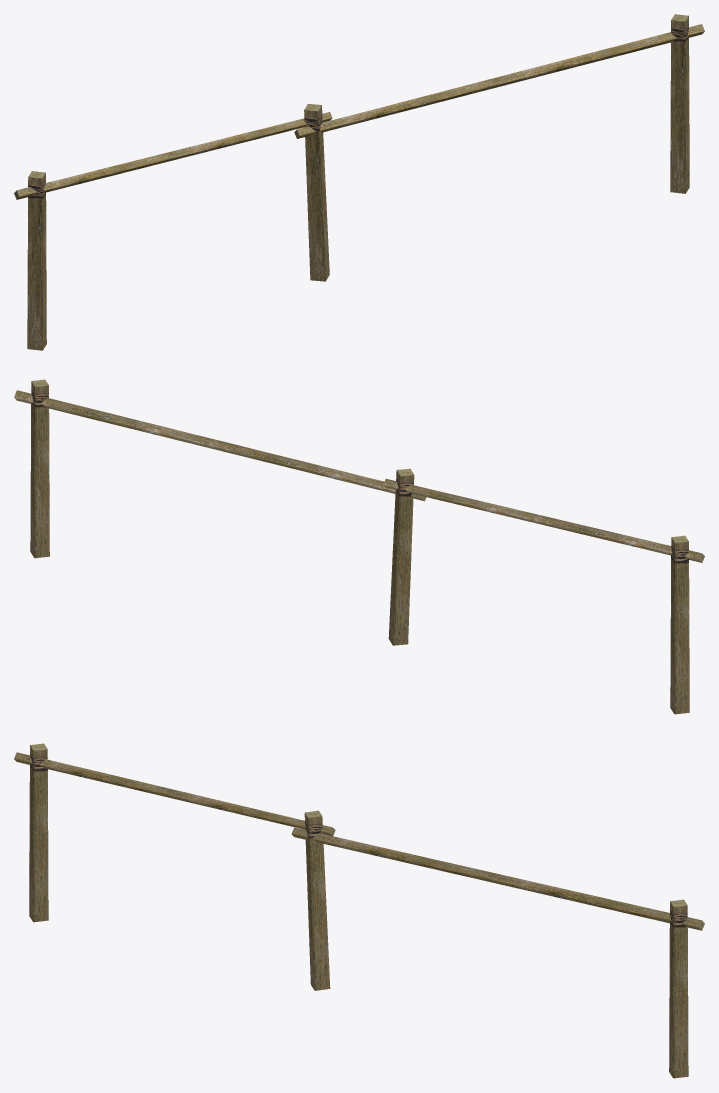
File: thm_endr_lake_rail4m_l1.fbx
The picture shows the model from 3 angles, top to bottom: view 1: azimuth 30°, elevation 25°; view 2: azimuth 150°, elevation 25°; view 3: azimuth 330°, elevation 25°; orthographic projection.
Visible parts, largest first — view 1: mesh_node; view 2: mesh_node; view 3: mesh_node.
Boxes of the visible parts, x1,y1,x2,y2 form: mesh_node: (14,14,704,350); mesh_node: (14,379,704,714); mesh_node: (14,743,704,1078).
Size of the model in its own units: 4.02 by 0.9654 by 0.1142.
